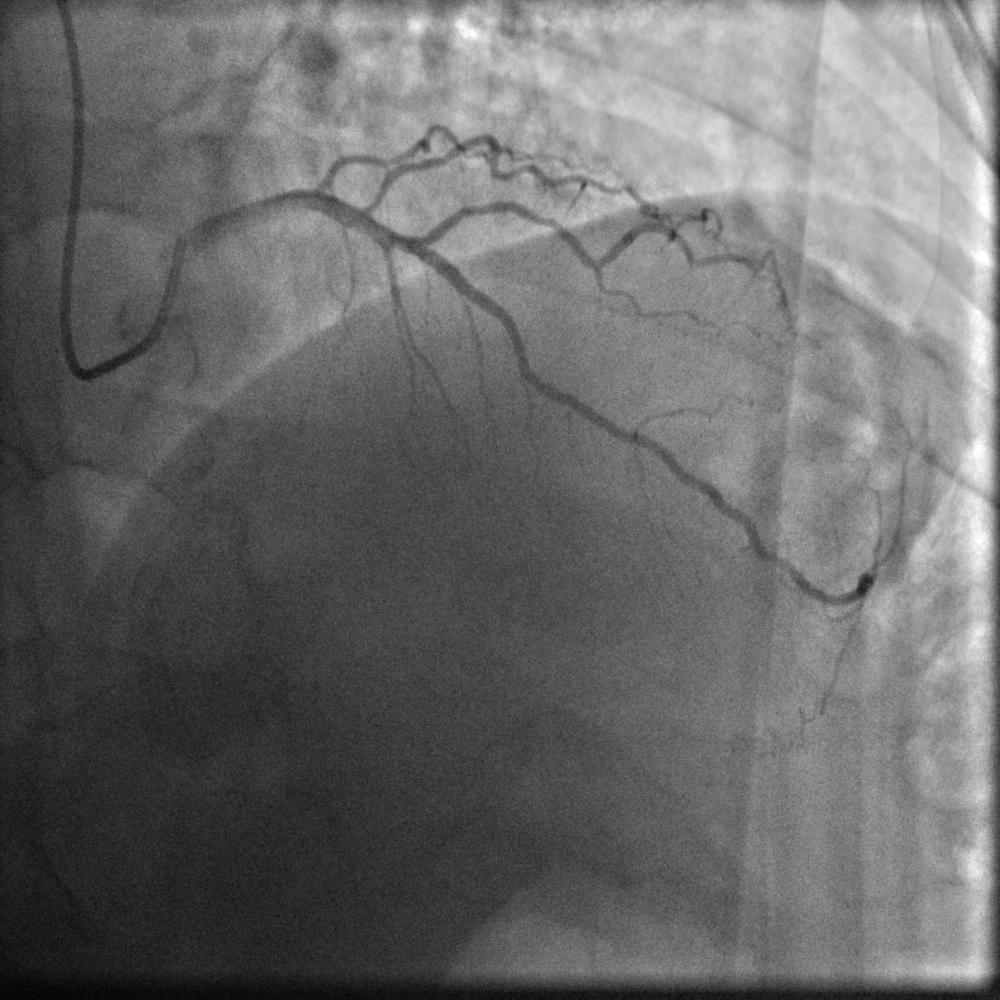Stenosis: (307, 161, 388, 221)
